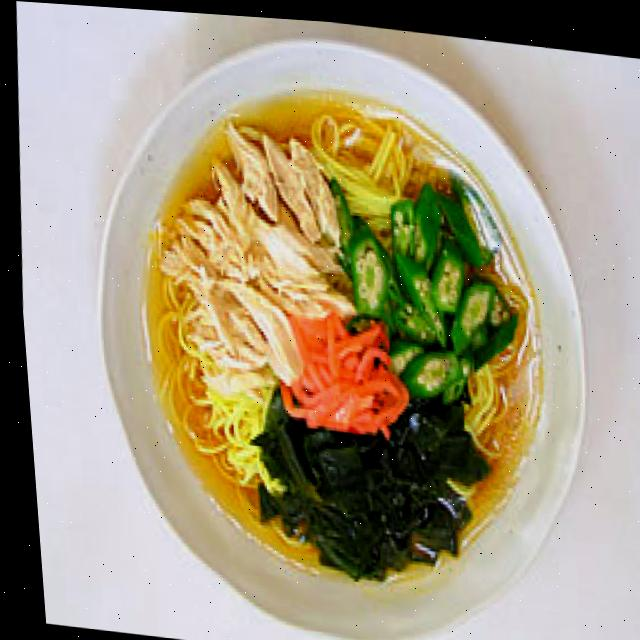面条主食: (48, 3, 618, 640)
